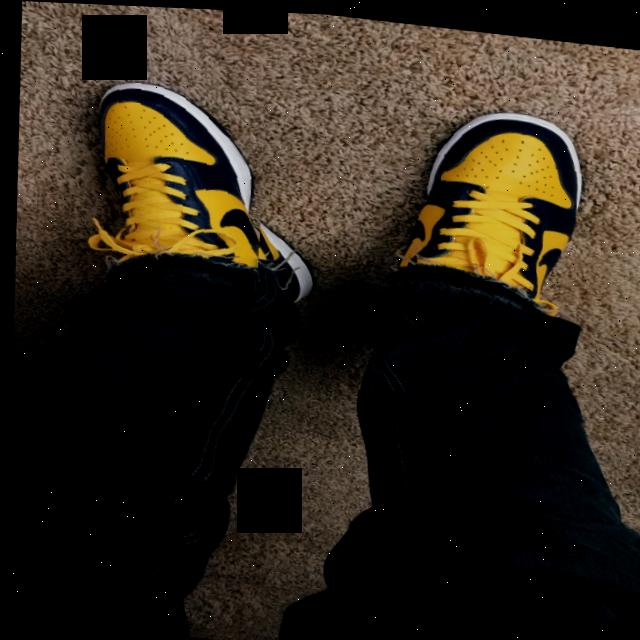shoe: (358, 120, 640, 424), (22, 44, 275, 325)
